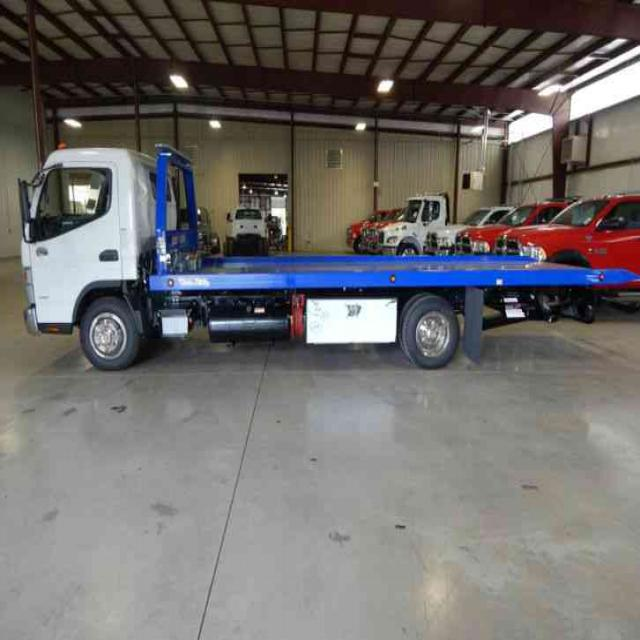truck: (13, 146, 639, 368)
